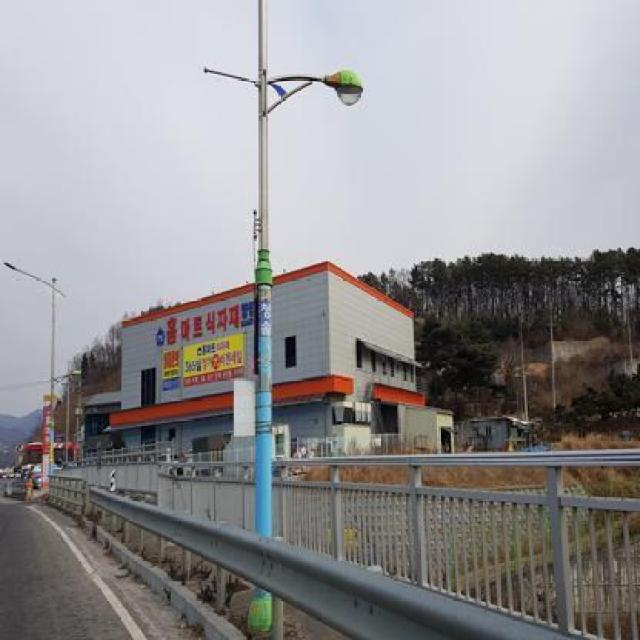pole: (238, 61, 294, 545)
